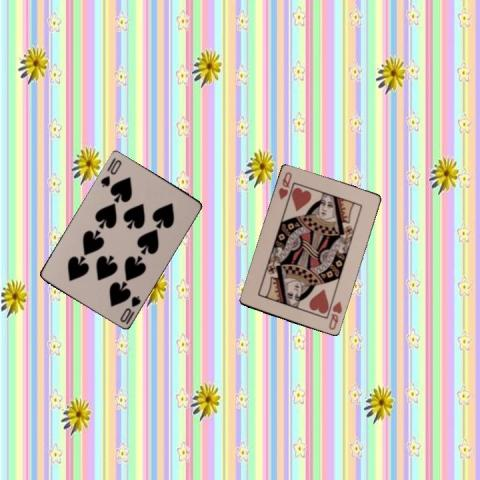10s: (97, 157, 123, 188), (117, 293, 142, 323)
Qh: (275, 170, 294, 202), (326, 298, 343, 331)
